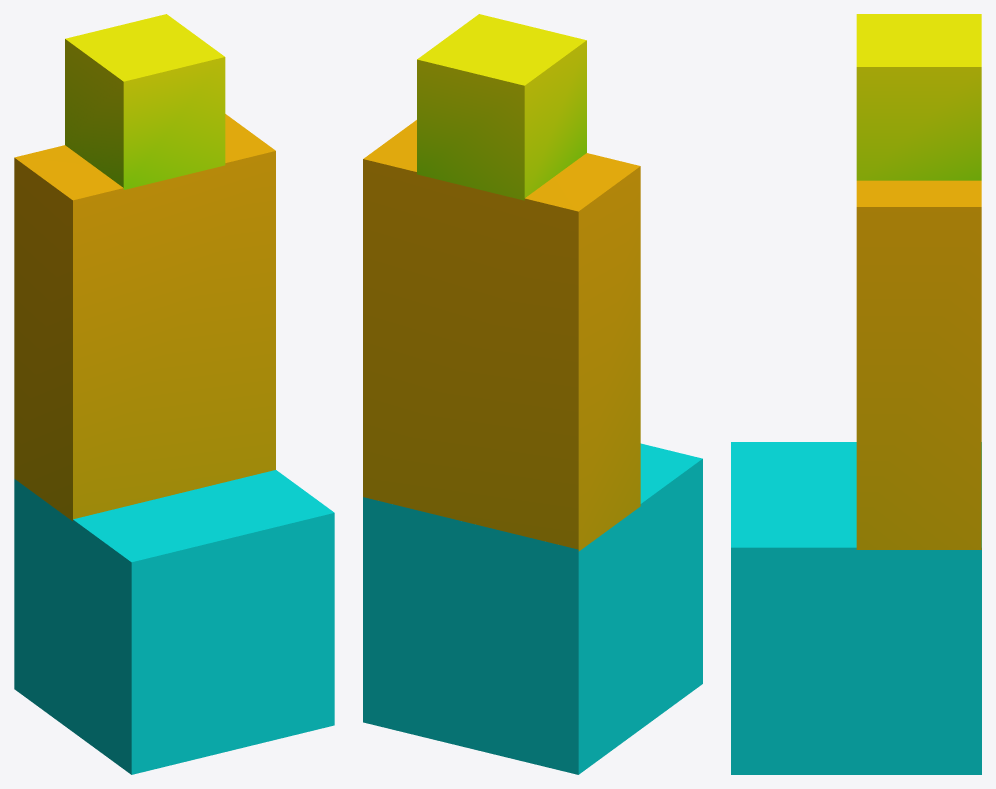
3 views of the same model, side by side, from view 1: azimuth 30°, elevation 25°; view 2: azimuth 150°, elevation 25°; view 3: azimuth 270°, elevation 25° (orthographic). The views are drawn at different scales.
Parts seen in each view (by area): view 1: upright, base, cap; view 2: upright, base, cap; view 3: base, upright, cap.
Part boxes in pixels (x1,y1,x2,y2): upright: (14, 114, 275, 521); base: (14, 470, 334, 774); cap: (65, 14, 225, 189); upright: (363, 120, 640, 551); base: (363, 443, 702, 774); cap: (417, 14, 586, 200); base: (731, 442, 981, 774); upright: (856, 180, 981, 549); cap: (856, 14, 981, 180).
Size of the model in its own units: 0.1 by 0.3 by 0.1.
